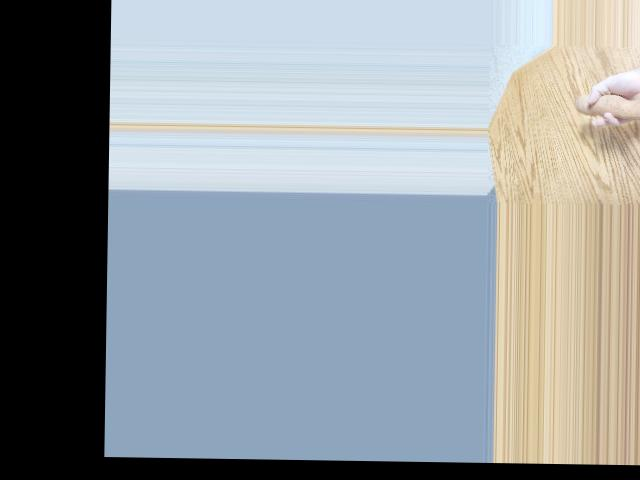sweet_potato: (569, 99, 640, 123)
